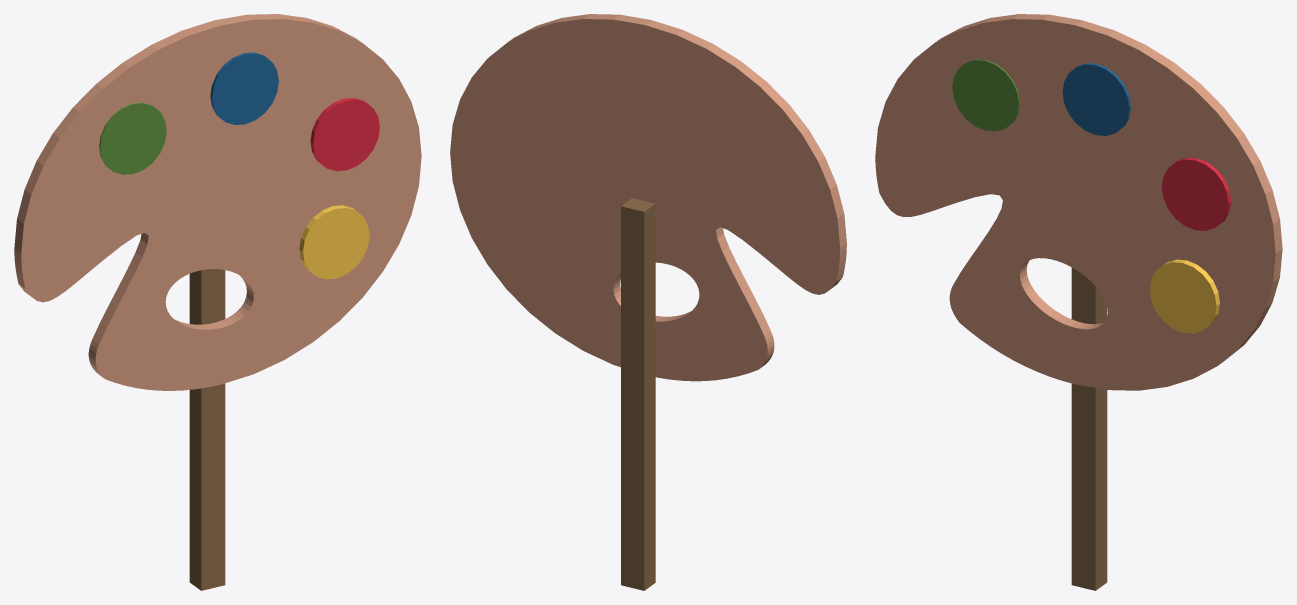
Rendered from palette.glb.
3 renders of one model, left to right at view 1: azimuth 30°, elevation 25°; view 2: azimuth 150°, elevation 25°; view 3: azimuth 330°, elevation 25°, orthographic. The views are drawn at different scales.
Bounding box in the file's own units: 1 × 1.36 × 0.101.
